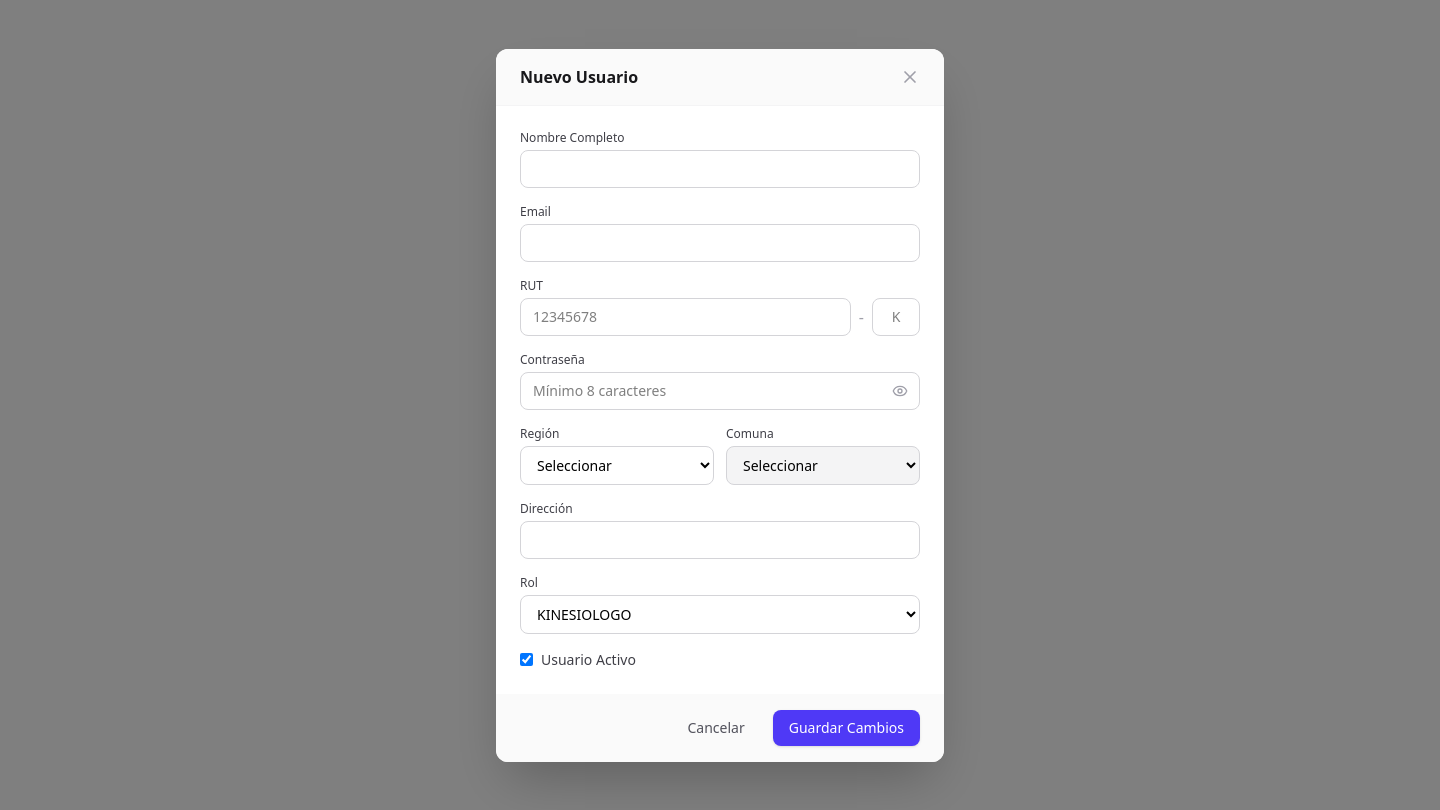
Test: UserModal › shows error for invalid RUT
The image size is (1440, 810).
Type "User" into the field labelled "Nombre Completo" at coordinates (720, 168), box [520,150,920,188]
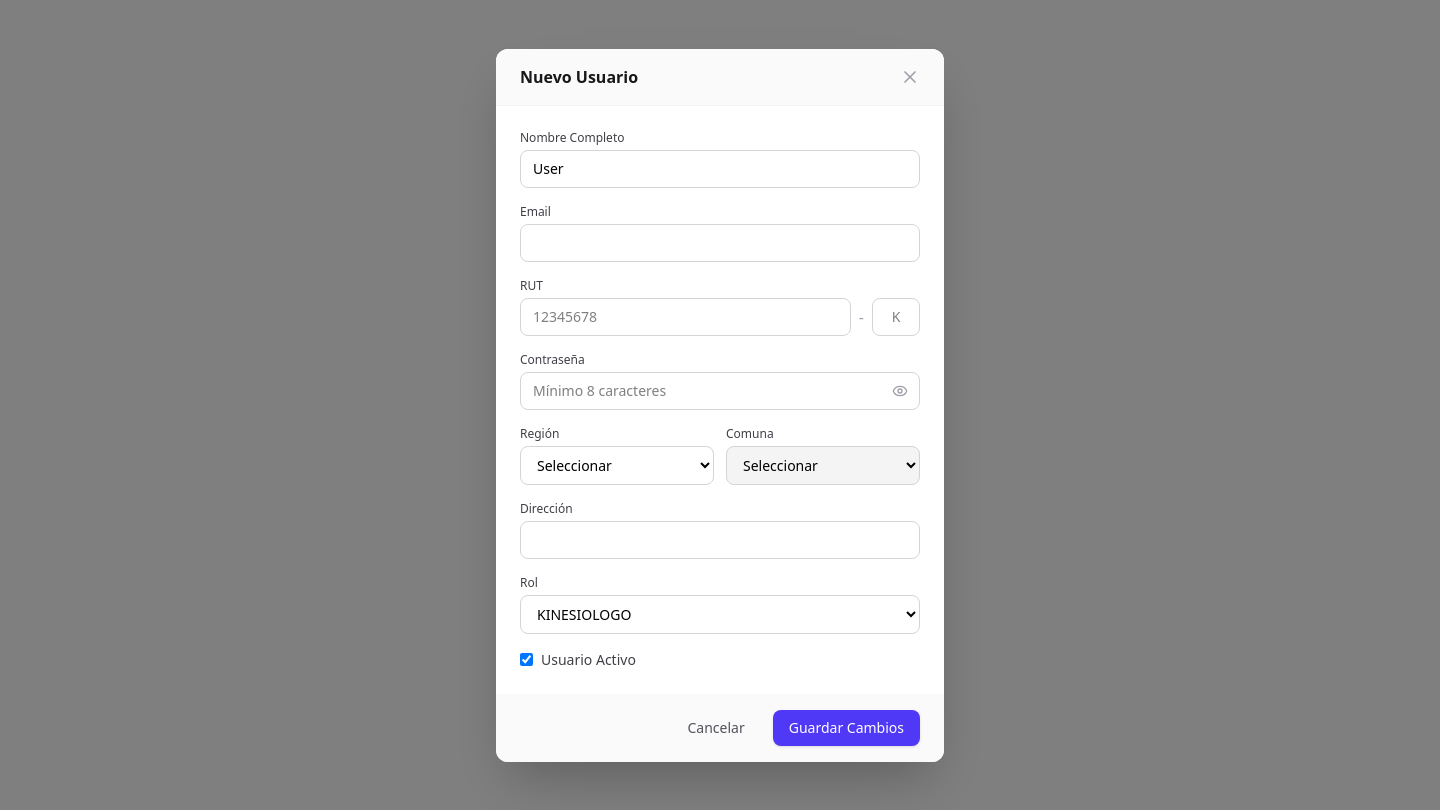
Type "test@test.com" into the field labelled "Email" at coordinates (720, 242), box [520,224,920,262]
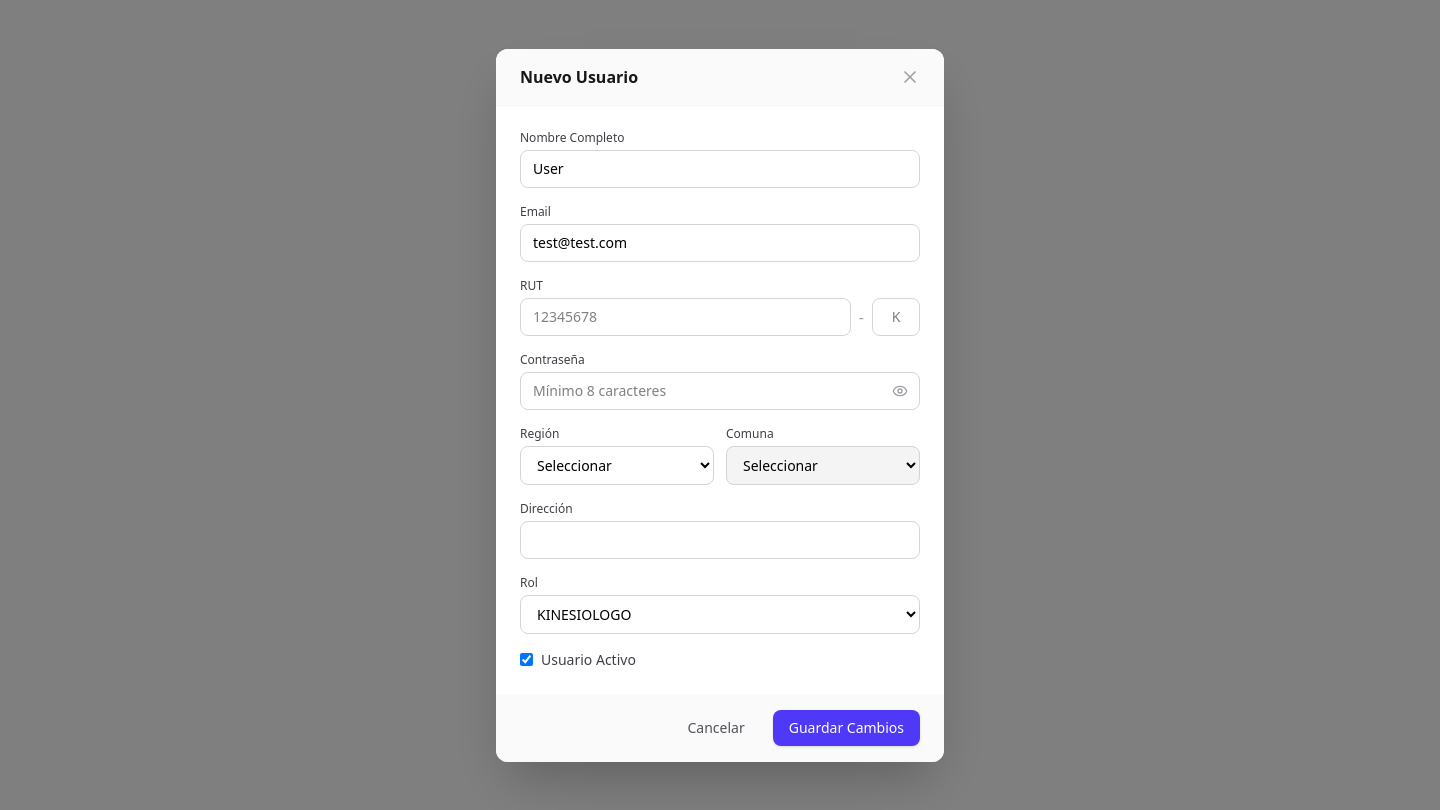
Type "11111111" into the field with placeholder "12345678" at coordinates (685, 316), box [520,298,851,336]
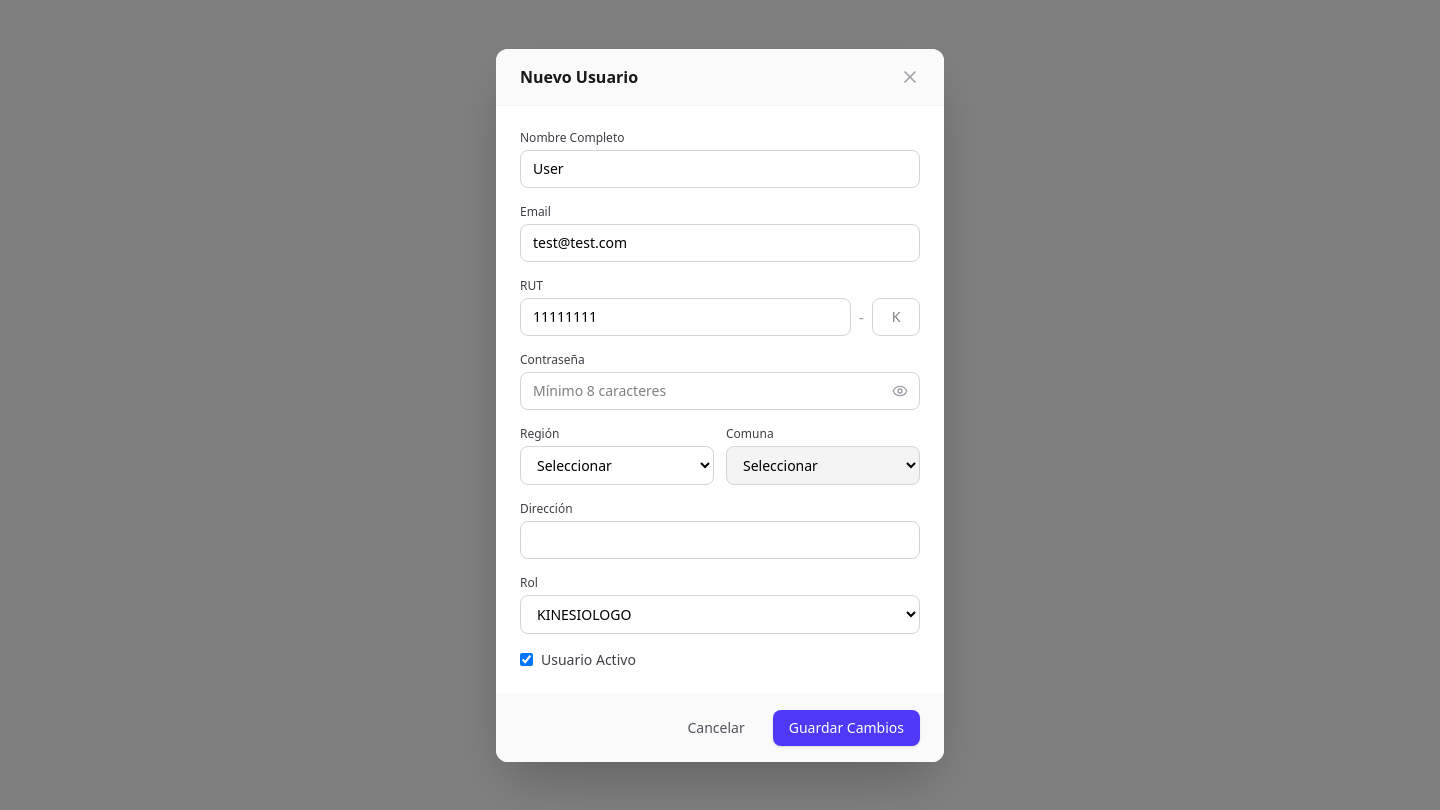
Type "1" into the field with placeholder "K" at coordinates (896, 316), box [872,298,920,336]
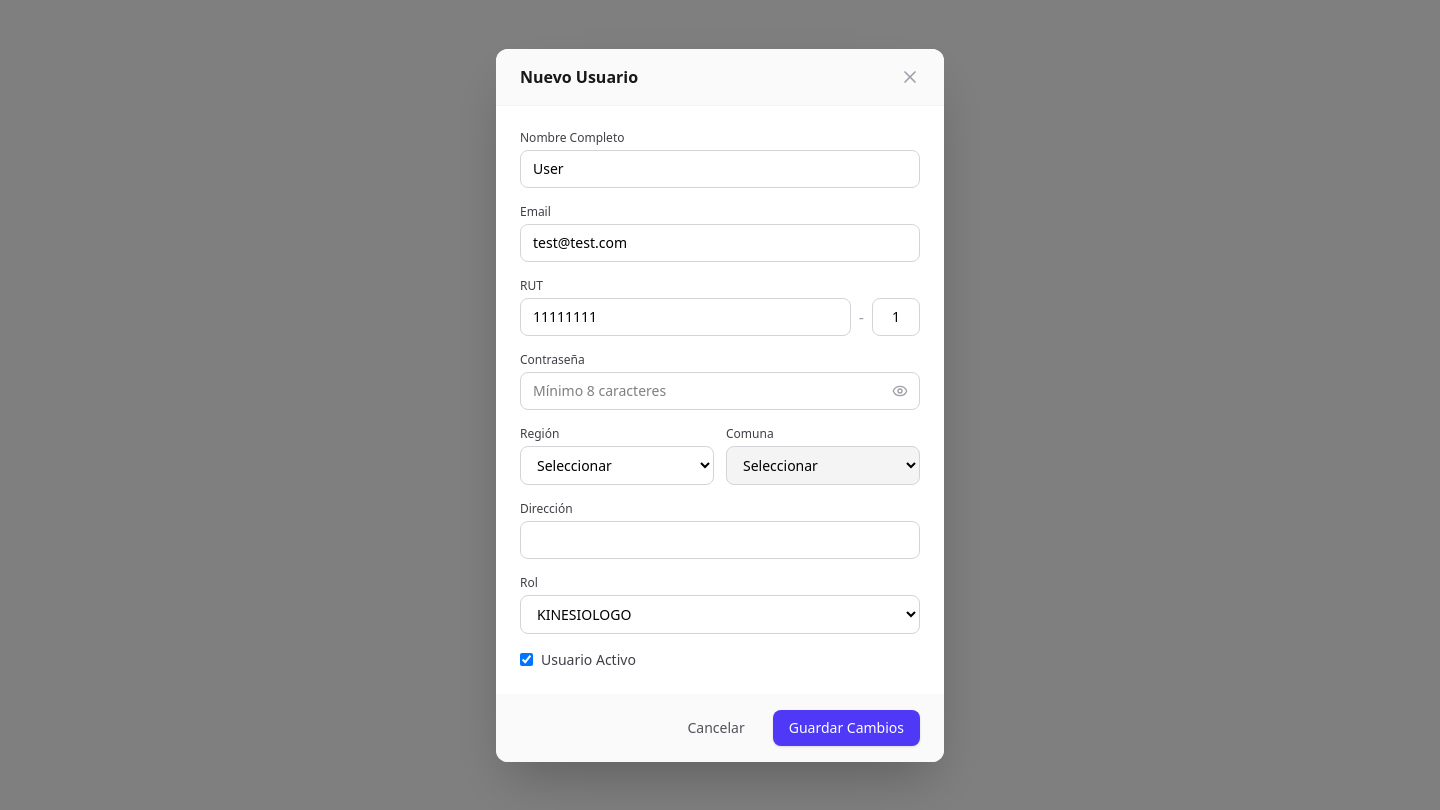
Click the button "Guardar Cambios" at coordinates (846, 728), box [773,710,920,746]
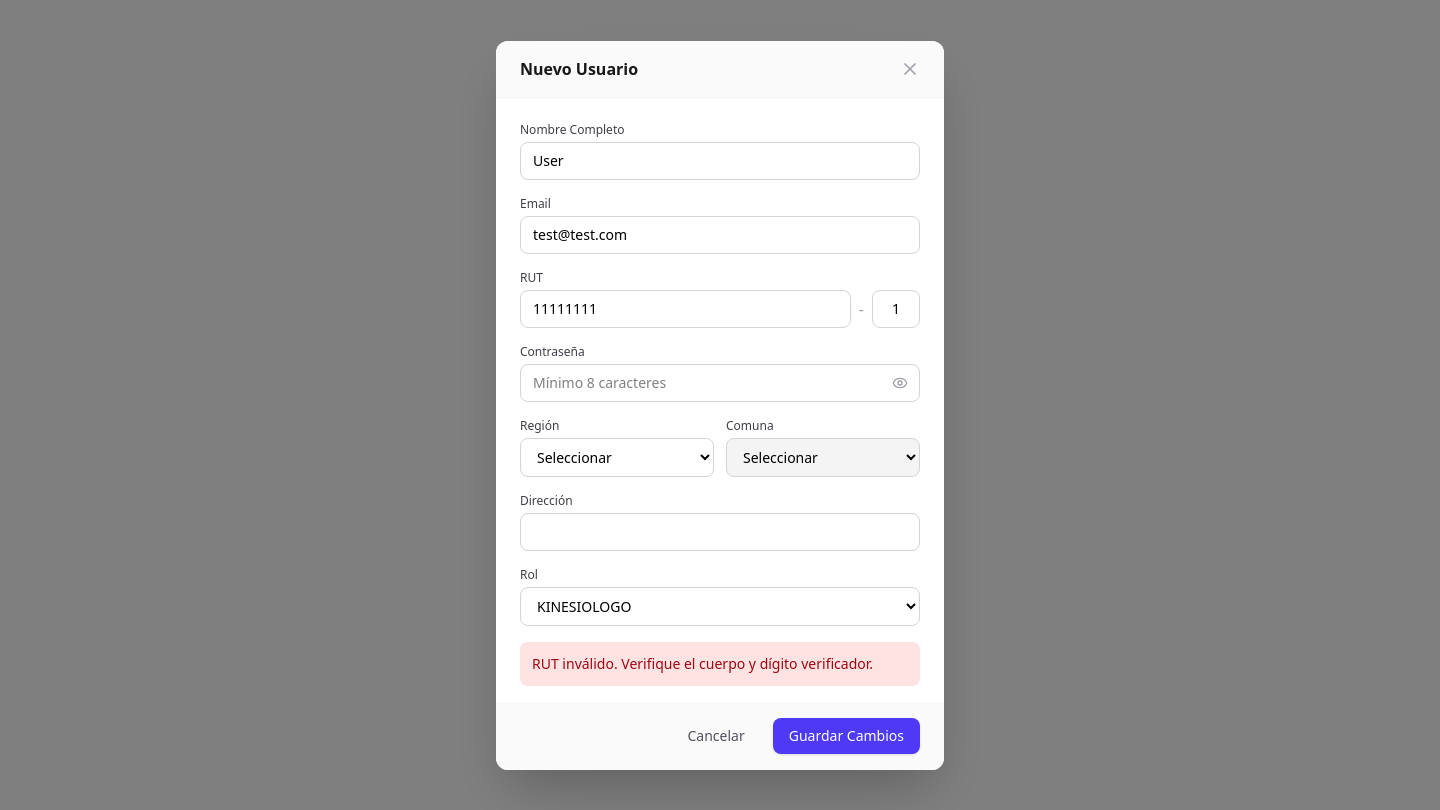
Check: the text "RUT inválido. Verifique el cuerpo y dígito verificador." is shown, box [520,642,920,686]
